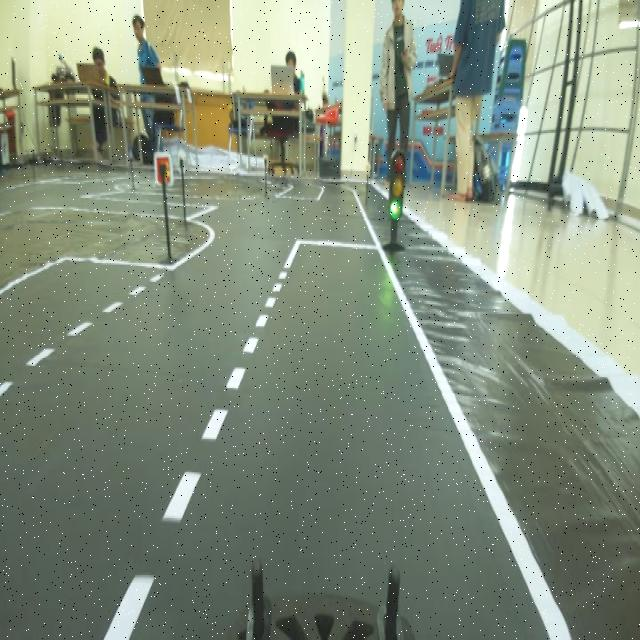trafficlight: (379, 137, 416, 269)
